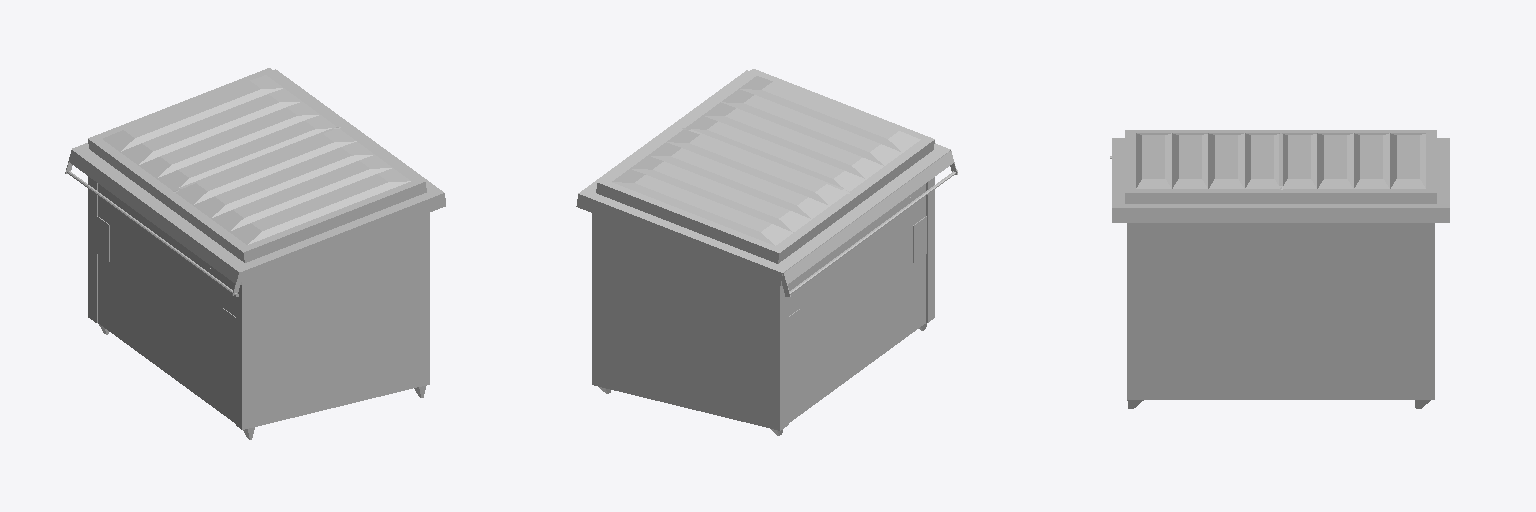
The model's file is dumpy.obj.
3 views of the same model, side by side, from view 1: azimuth 30°, elevation 25°; view 2: azimuth 150°, elevation 25°; view 3: azimuth 270°, elevation 25° (orthographic).
Parts seen in each view (by area): view 1: Cube_Cube.001; view 2: Cube_Cube.001; view 3: Cube_Cube.001.
Boxes of the visible parts, <box> form: Cube_Cube.001: <box>65,68,445,439</box>; Cube_Cube.001: <box>576,69,957,435</box>; Cube_Cube.001: <box>1110,130,1449,408</box>.
Size of the model in its own units: 2.95 by 2.87 by 4.08.